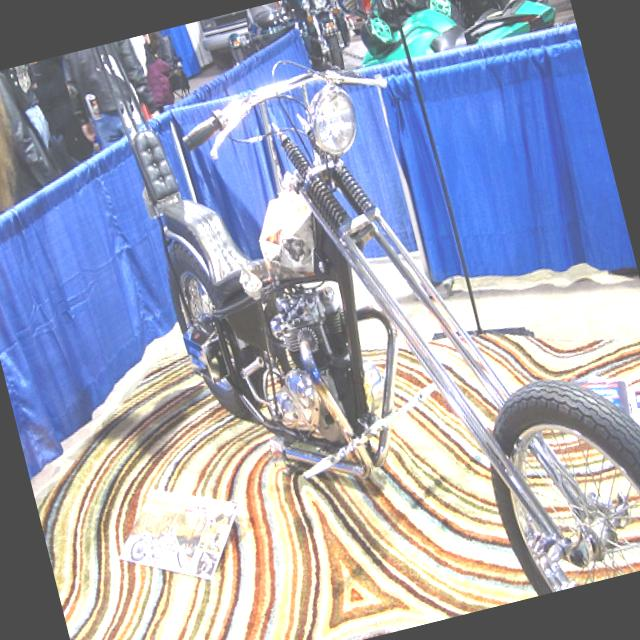Vehicle: (79, 0, 640, 640), (343, 0, 561, 69), (194, 0, 354, 75)
